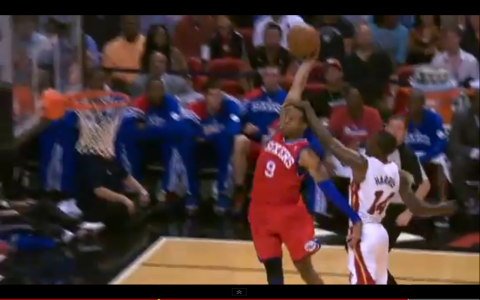ball: (286, 22, 320, 58)
basket: (59, 85, 131, 157)
player: (302, 111, 454, 285), (243, 53, 354, 285)
